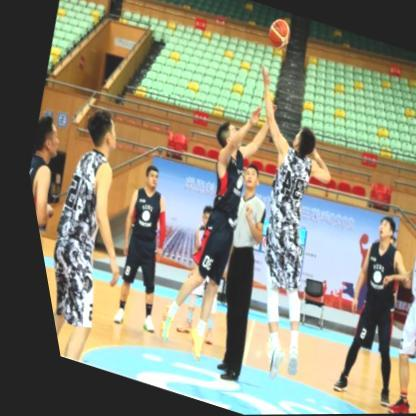basketball: (261, 16, 295, 51)
